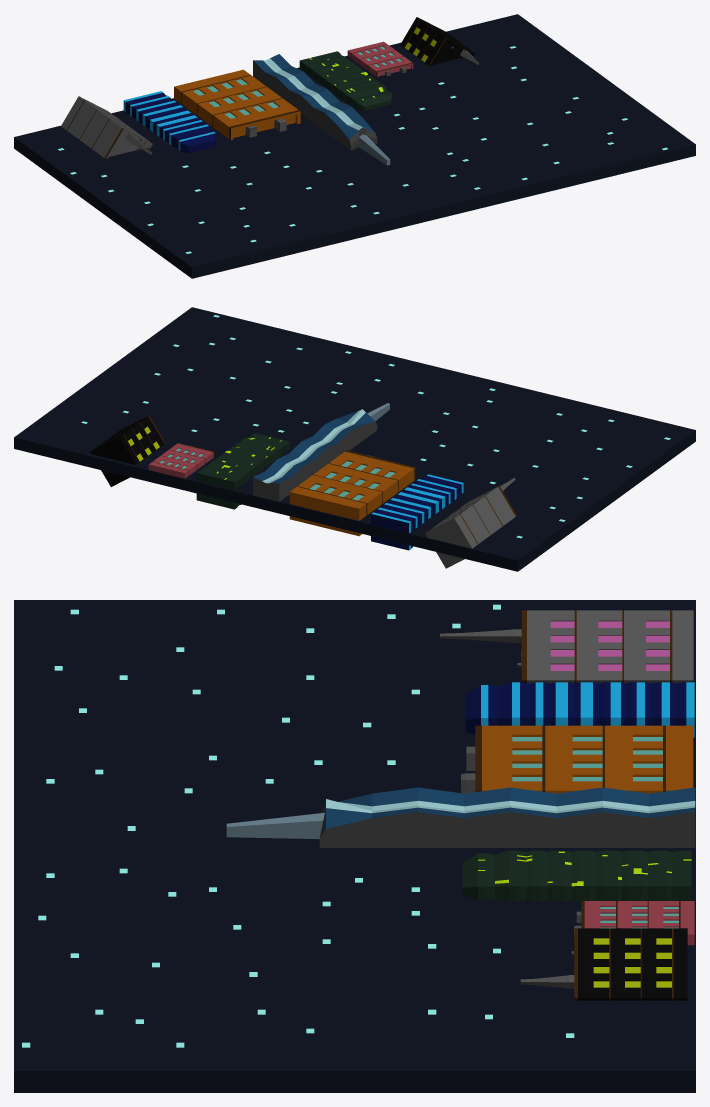
File: buildings.fbx
3 renders of one model, top to bottom at view 1: azimuth 30°, elevation 25°; view 2: azimuth 150°, elevation 25°; view 3: azimuth 270°, elevation 25°, orthographic. The views are drawn at different scales.
Visible parts, largest first — view 1: Cube.001, Cube.002, Cube, Cube.005, Cube.003, Cube.007, Cube.006, Cube.004; view 2: Cube.001, Cube.002, Cube, Cube.005, Cube.007, Cube.003, Cube.006, Cube.004; view 3: Cube.001, Cube, Cube.002, Cube.007, Cube.003, Cube.005, Cube.006, Cube.004.
Boxes of the visible parts, x1,y1,x2,y2 form: Cube.001: (14, 14, 695, 278); Cube.002: (174, 69, 300, 140); Cube: (253, 54, 390, 165); Cube.005: (123, 91, 215, 152); Cube.003: (299, 51, 391, 110); Cube.007: (61, 96, 152, 158); Cube.006: (400, 17, 478, 66); Cube.004: (347, 41, 413, 77); Cube.001: (14, 307, 695, 571); Cube.002: (289, 450, 416, 536); Cube: (253, 403, 389, 501); Cube.005: (371, 474, 463, 550); Cube.007: (425, 477, 516, 568); Cube.003: (196, 433, 289, 509); Cube.006: (90, 415, 165, 486); Cube.004: (148, 443, 214, 478); Cube.001: (14, 600, 695, 1092); Cube: (226, 787, 695, 847); Cube.002: (461, 725, 693, 793); Cube.007: (440, 610, 693, 683); Cube.003: (462, 850, 691, 901); Cube.005: (465, 682, 694, 737); Cube.006: (520, 928, 687, 1000); Cube.004: (574, 901, 694, 945).
Size of the model in its own units: 3841 by 394 by 2350.
